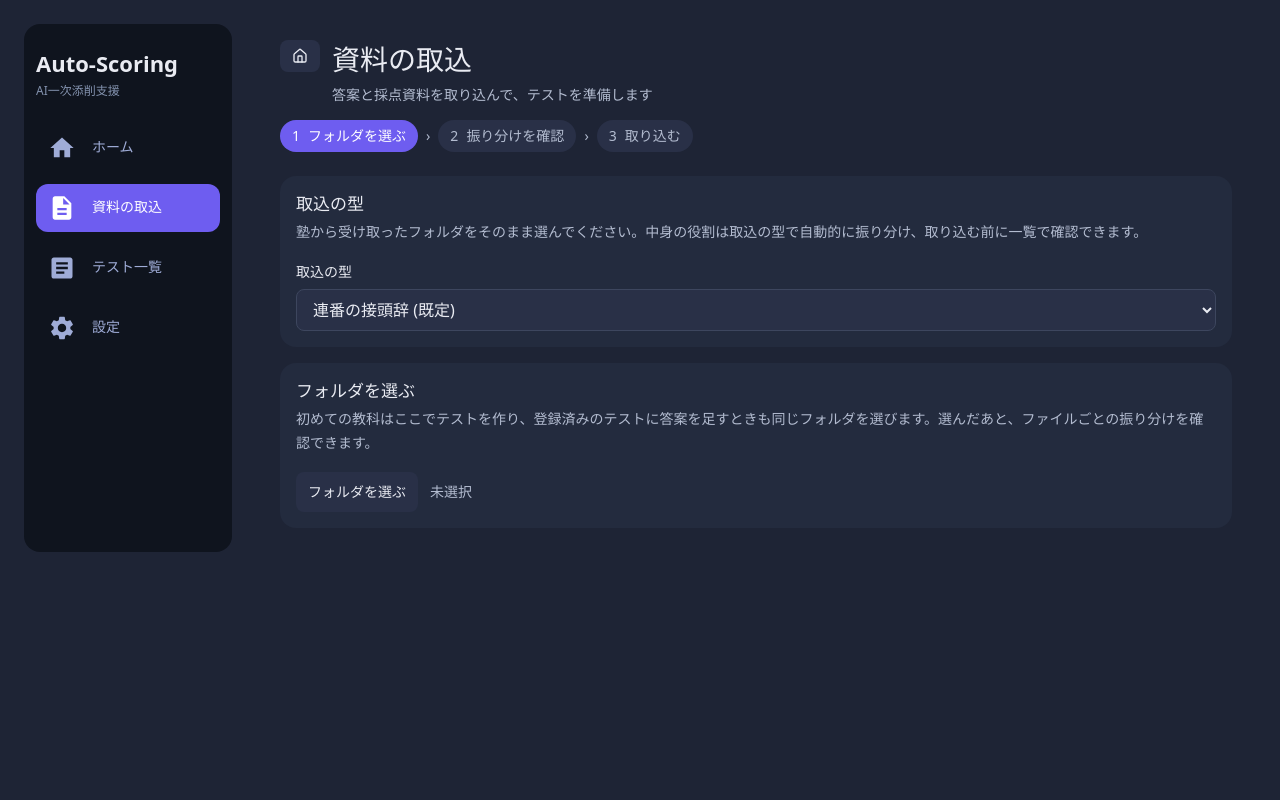
Test: IntakePage invariants › INV-126: does not print a numeric cost when unit price is unset
Expected: the dropdown with test id "intake-template-picker" is shown, top-left (296, 289), bottom-right (1216, 331)
Click the button with test id "intake-choose-folder" at (357, 492), box top-left (296, 472), bottom-right (418, 512)
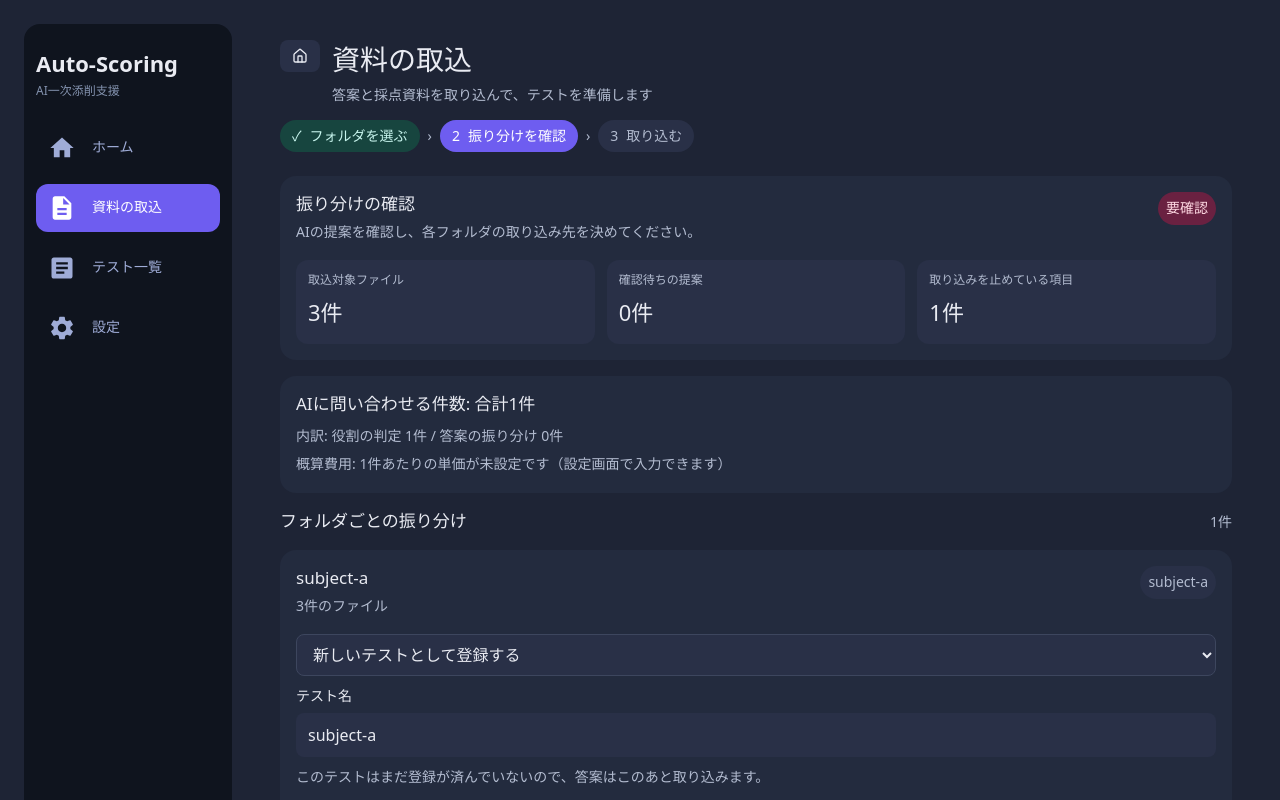
Now the element with test id "intake-call-estimate" is shown, box top-left (280, 376), bottom-right (1232, 493)
Now the text "概算費用: 1件あたりの単価が未設定です（設定画面で入力できます）" is shown, box top-left (296, 454), bottom-right (731, 473)
